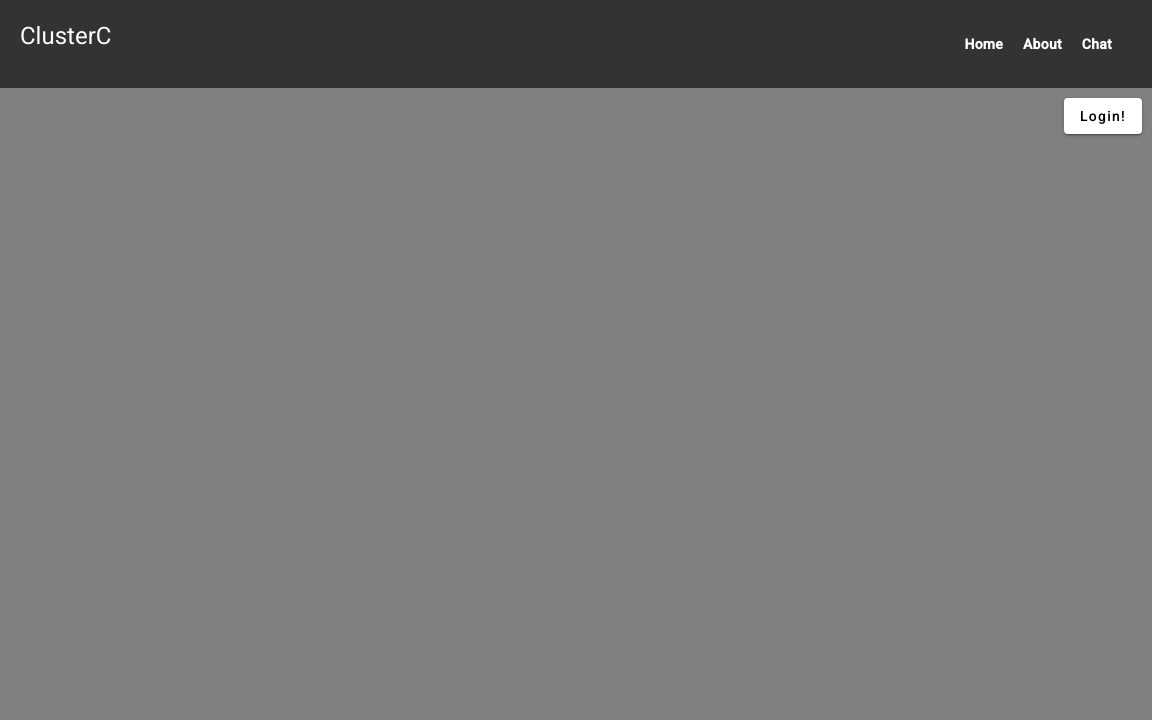
Test: Navigation › Visit login page
Click the button "Login!" at (1103, 116), box 1064,98 -> 1142,134
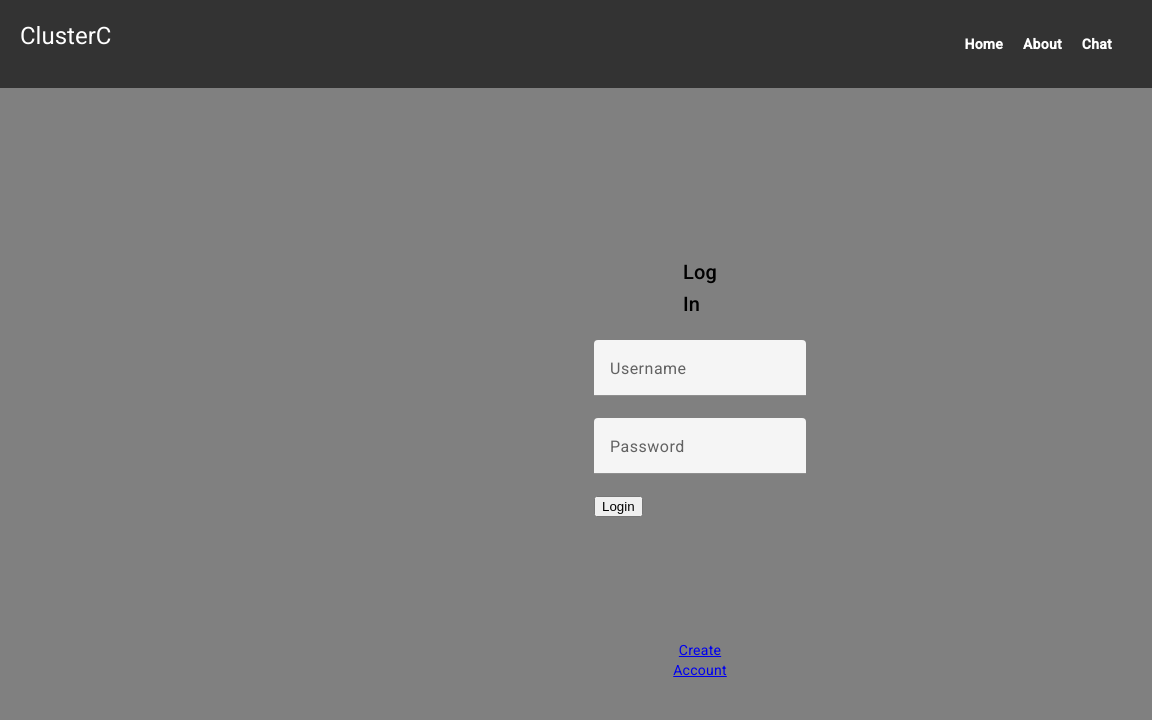
Expected: the text "Log In" is shown, 683,256 -> 717,320
